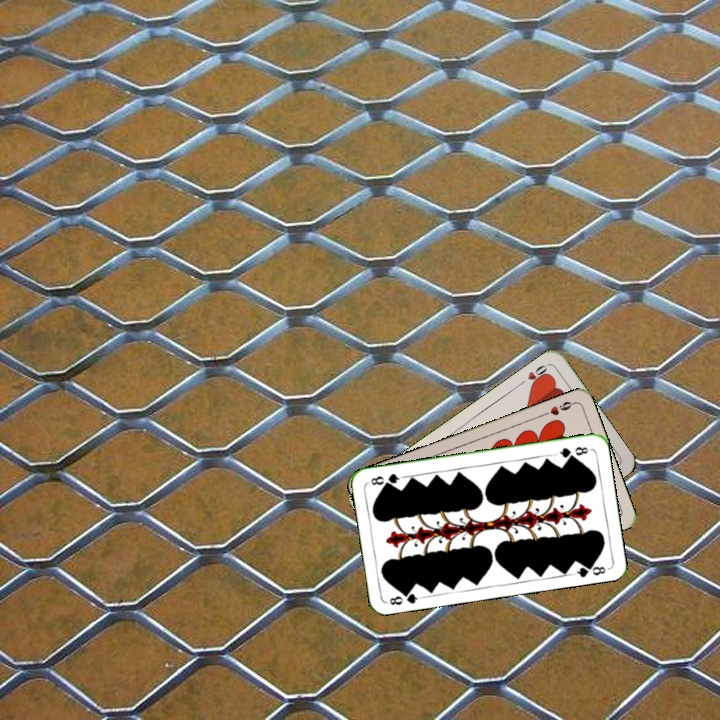G8: (384, 586, 424, 608), (552, 442, 591, 460)
H9: (538, 397, 577, 419)
HO: (515, 360, 552, 390)
